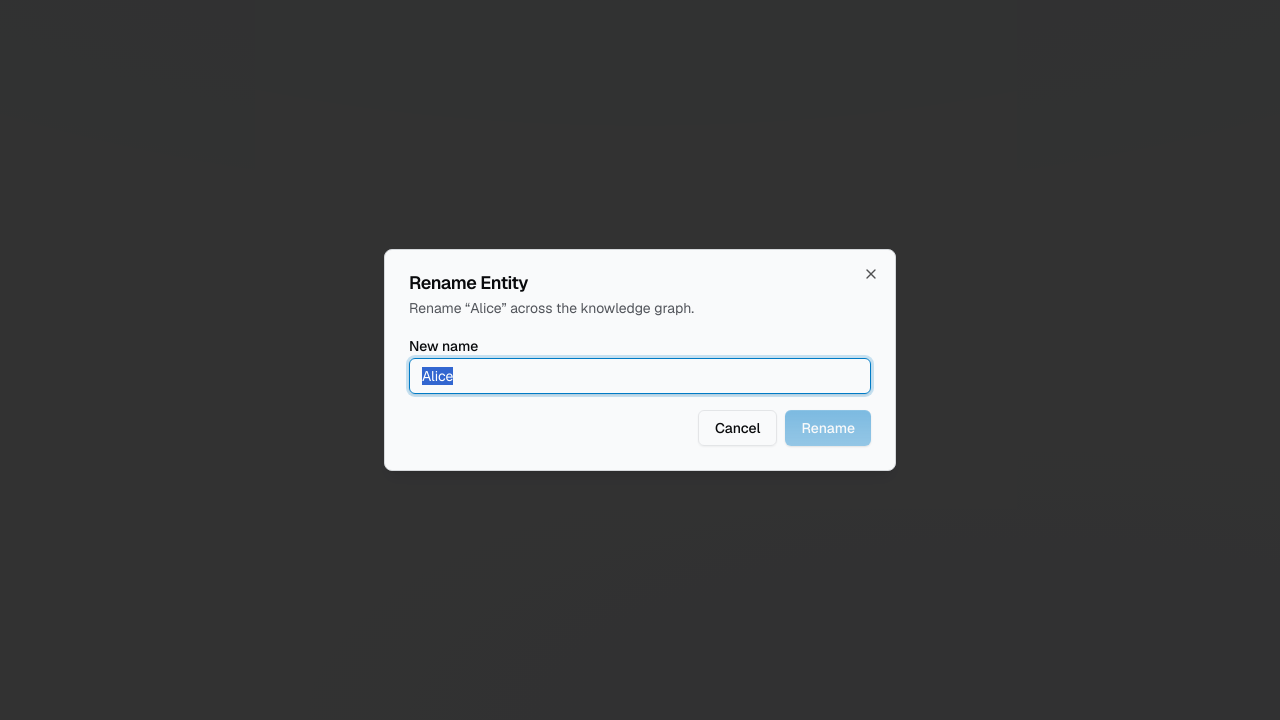
RenameDialog › renders with entity name and submits new name
Expected: the heading "Rename Entity" is shown, 409,271 -> 528,294
Replace the text in the field showing "Alice" with "Alice Smith" at (640, 376), box 409,358 -> 871,394
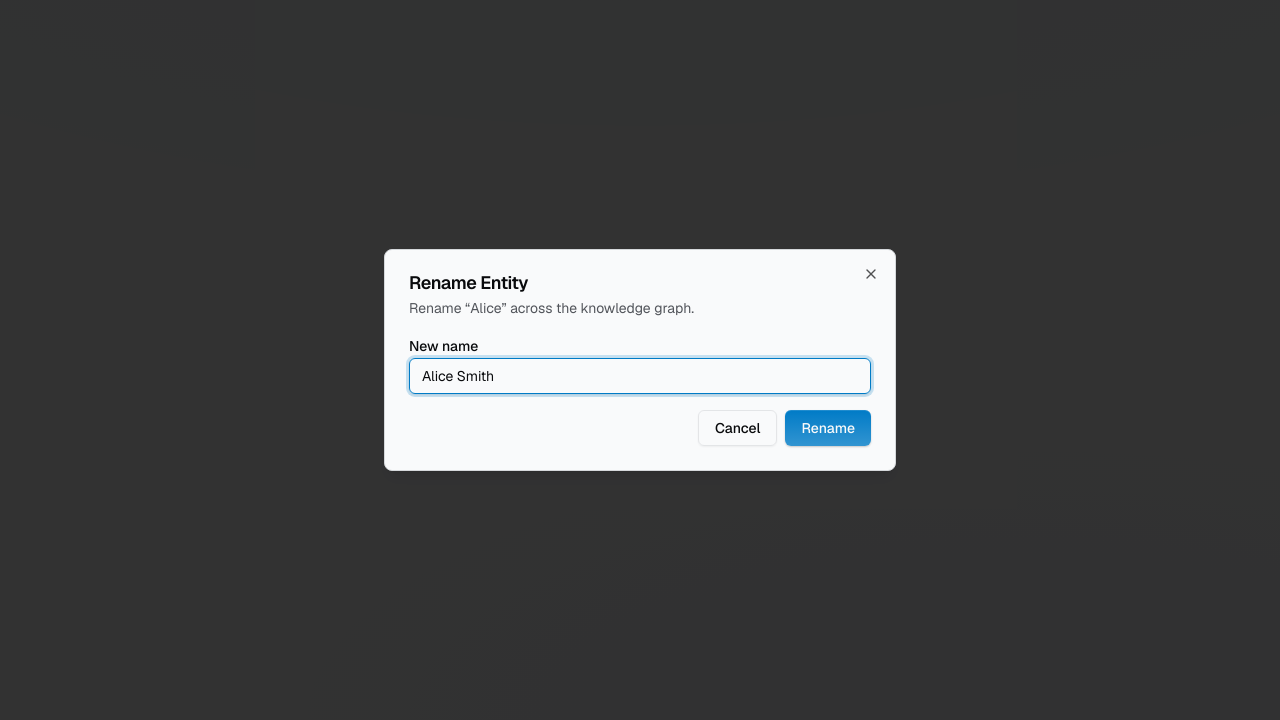
Now the button "Rename" is enabled, box 786,410 -> 871,446
